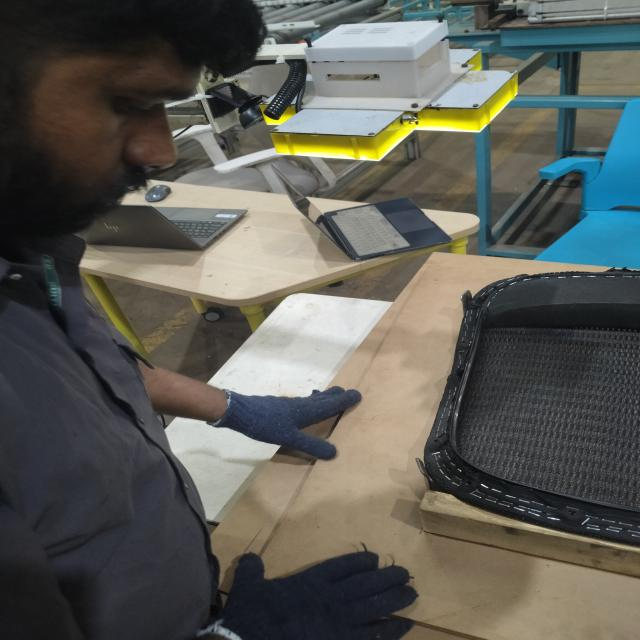Gloves-Detection: (218, 546, 428, 640), (214, 379, 362, 467)
